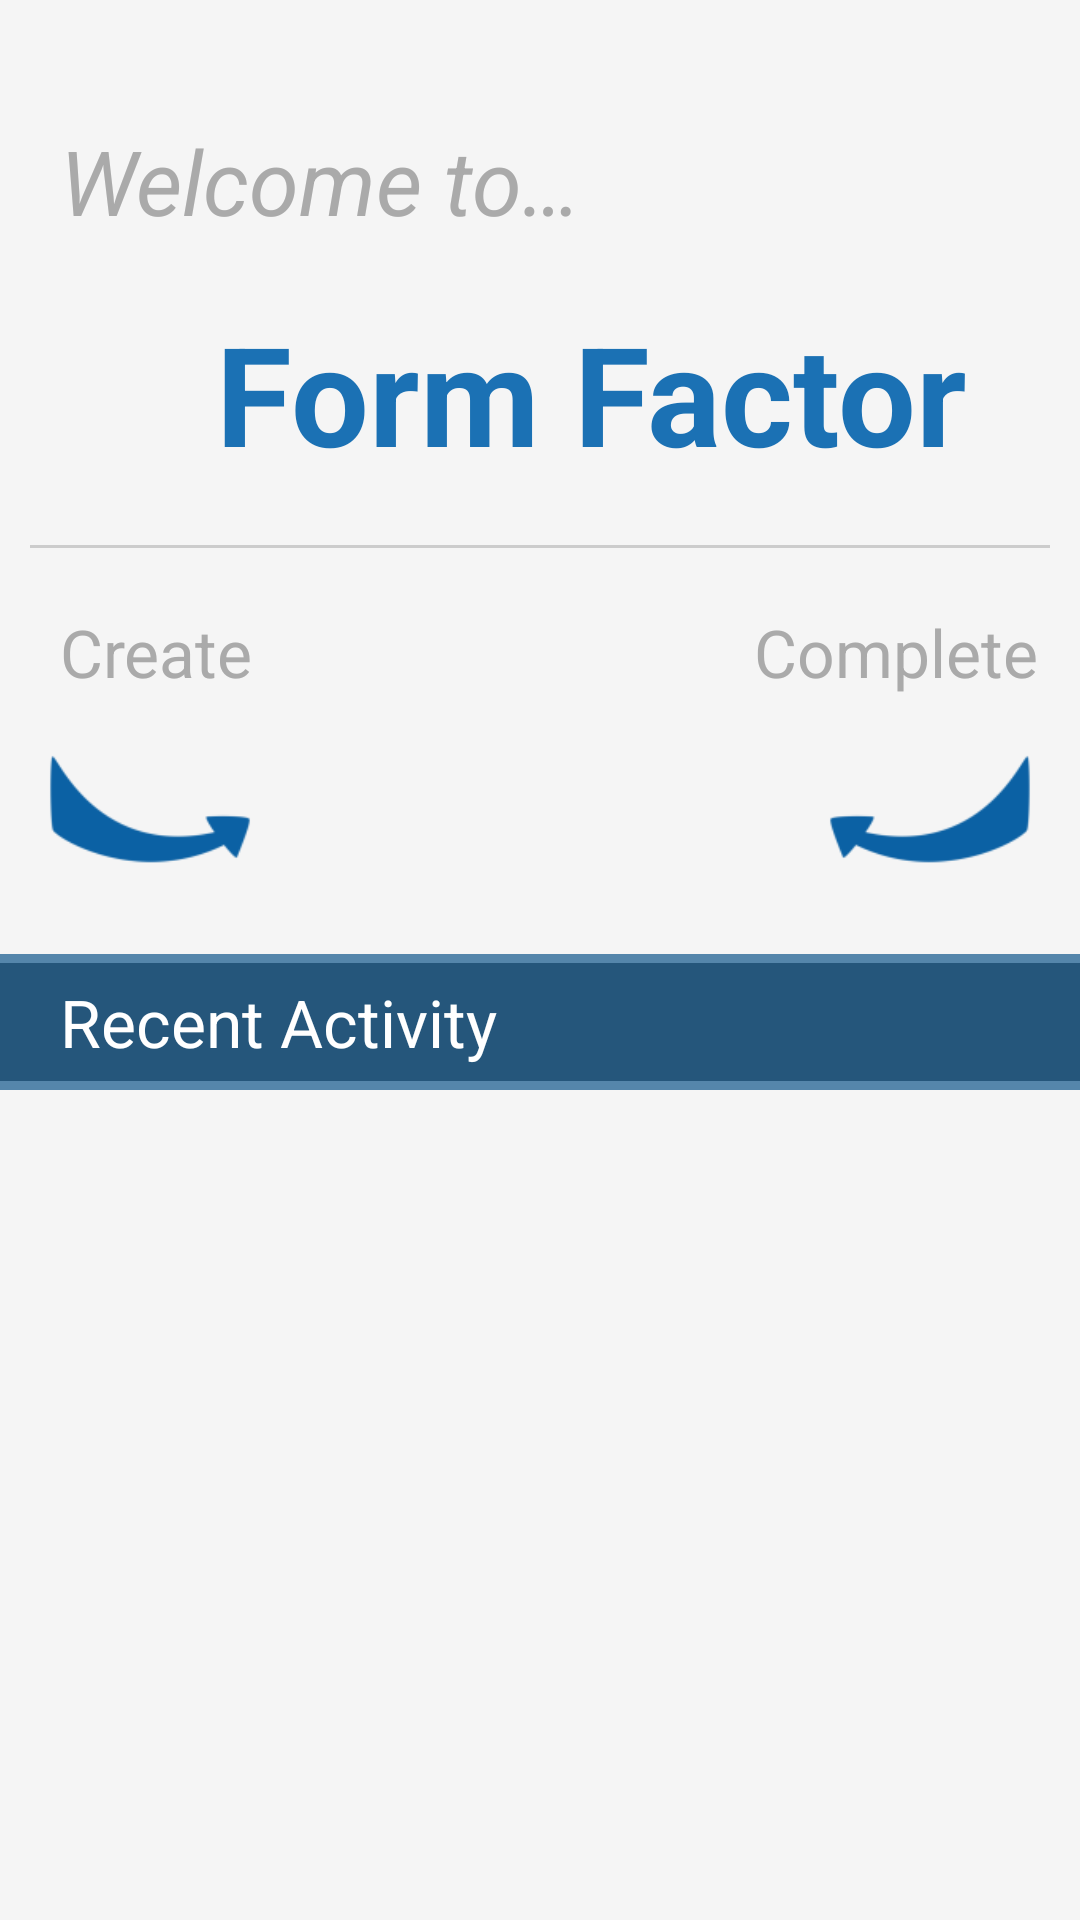

Screen size 1080×1920. Icon name, then its center in pixels as point (x, y):
swipe left: point (930, 809)
swipe right: point (150, 809)
